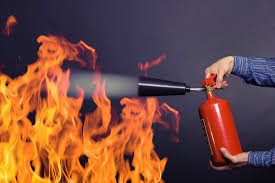fire: (137, 74, 242, 166)
